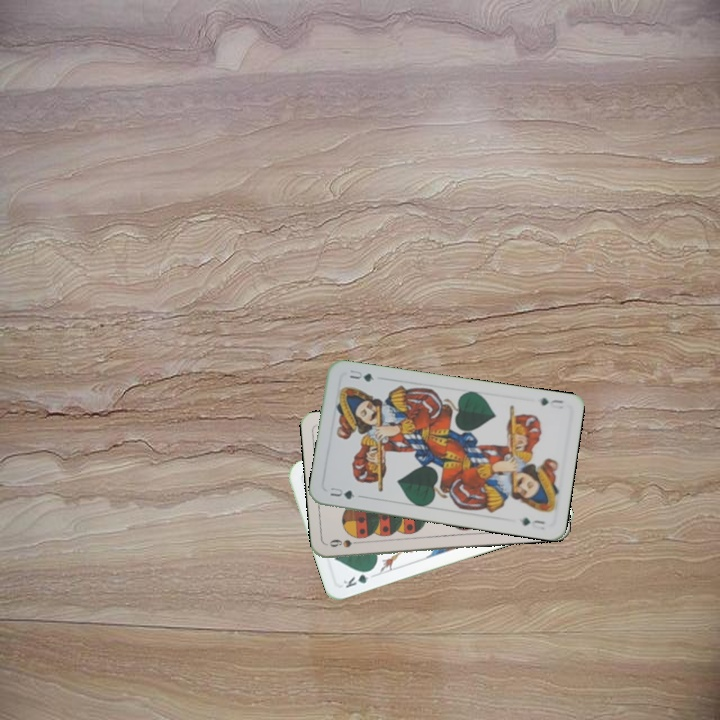GK: (339, 565, 376, 591)
GU: (326, 483, 358, 502), (537, 393, 566, 412)
S9: (325, 535, 366, 550)
